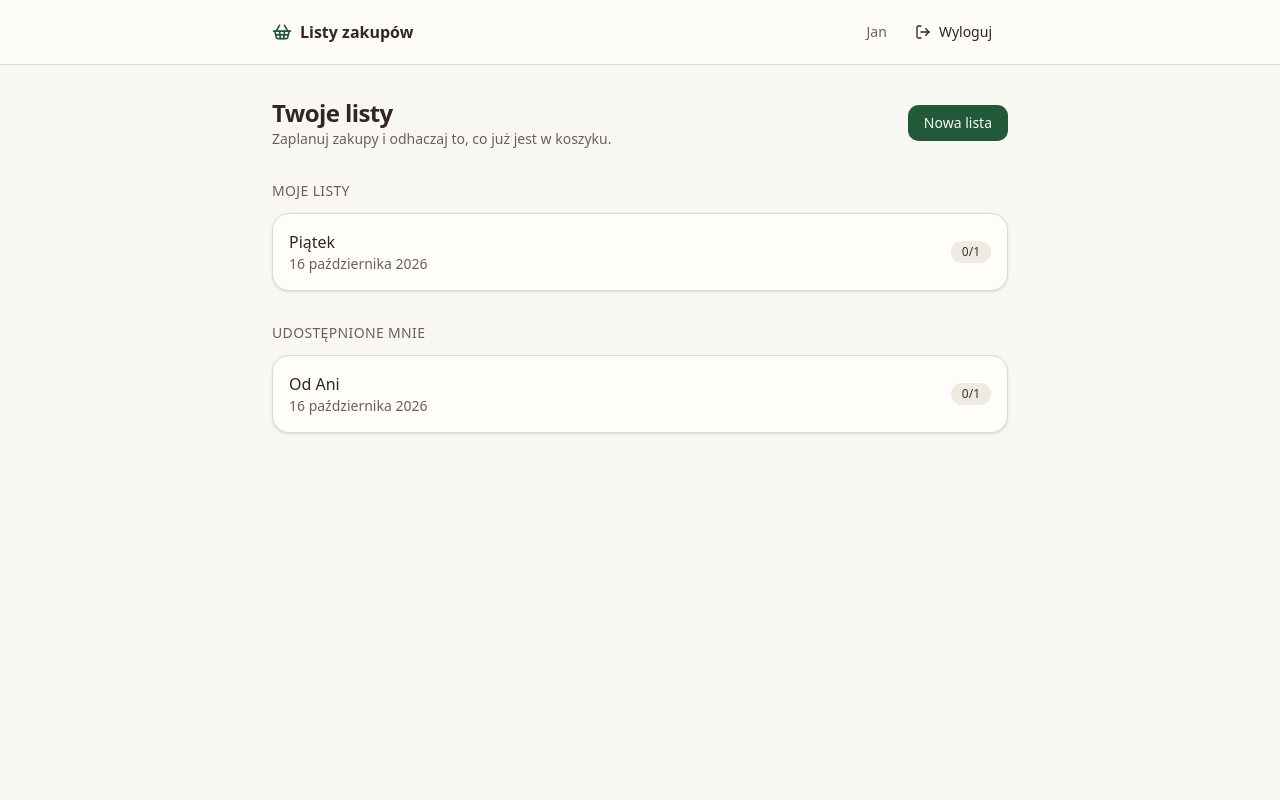
Scenario: listy › pokazuje własne i udostępnione listy oraz tworzy nową
The width and height of the screenshot is (1280, 800).
Expected: the text "Piątek" is shown, [289,231,335,253]
Expected: the text "Od Ani" is shown, [289,373,340,395]
Click the button with test id "new-list-button": (958, 123) [908,105,1008,141]
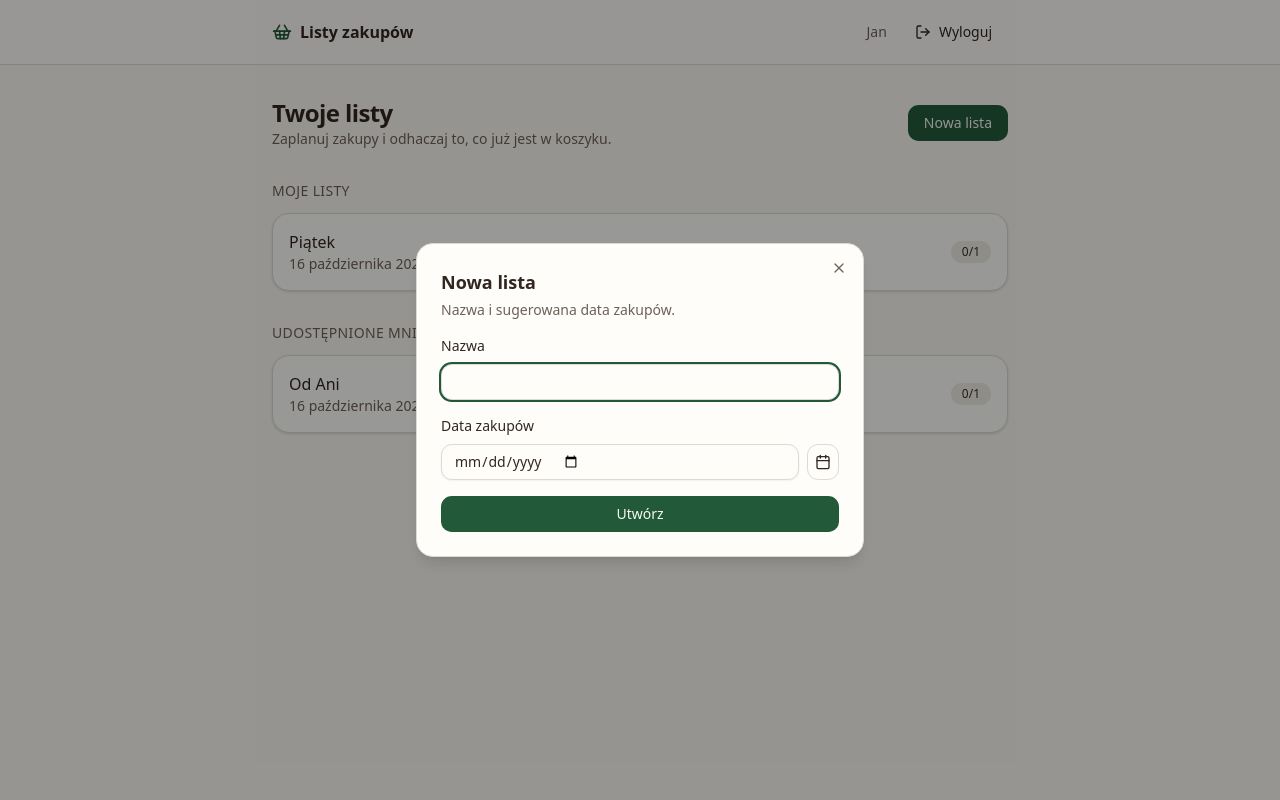
In the field with test id "list-name-input": (640, 382) [441,364,839,400], type "Sobota"
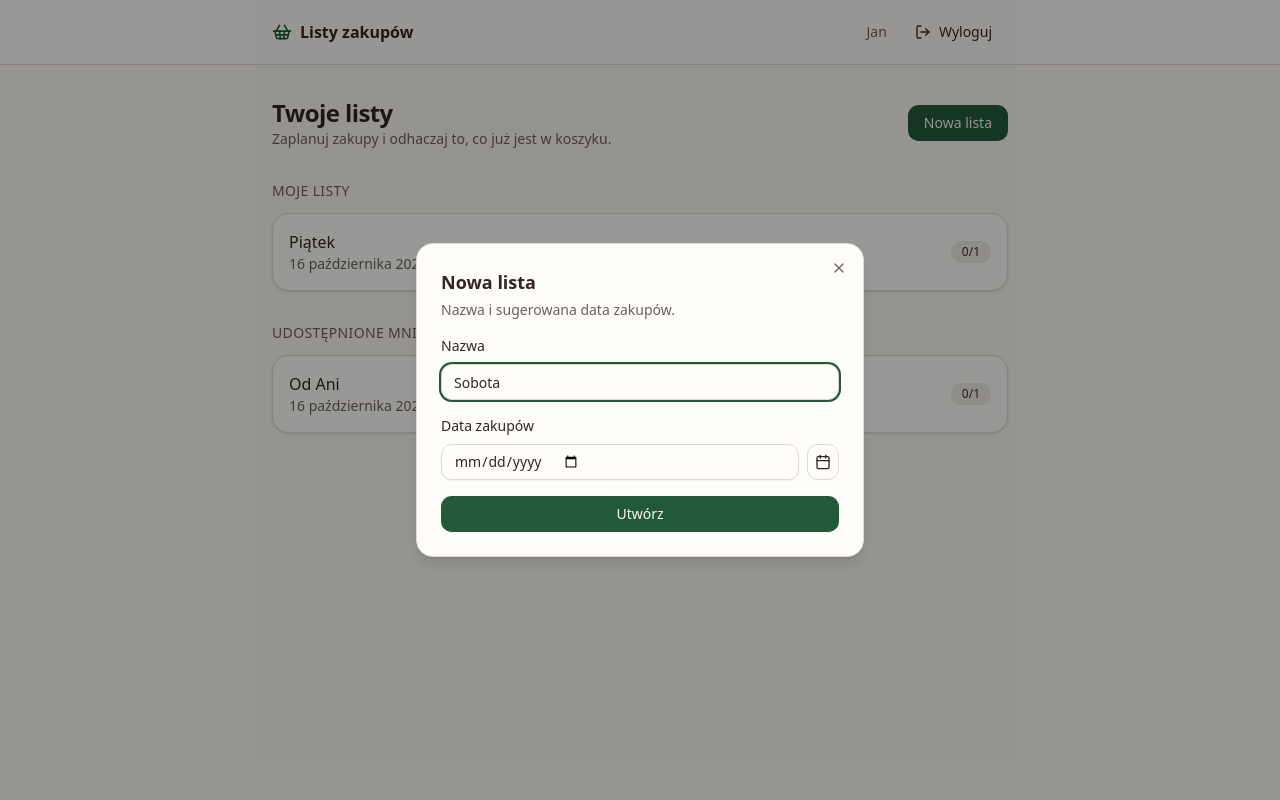
Click the button with test id "create-list-submit": (640, 514) [441,496,839,532]
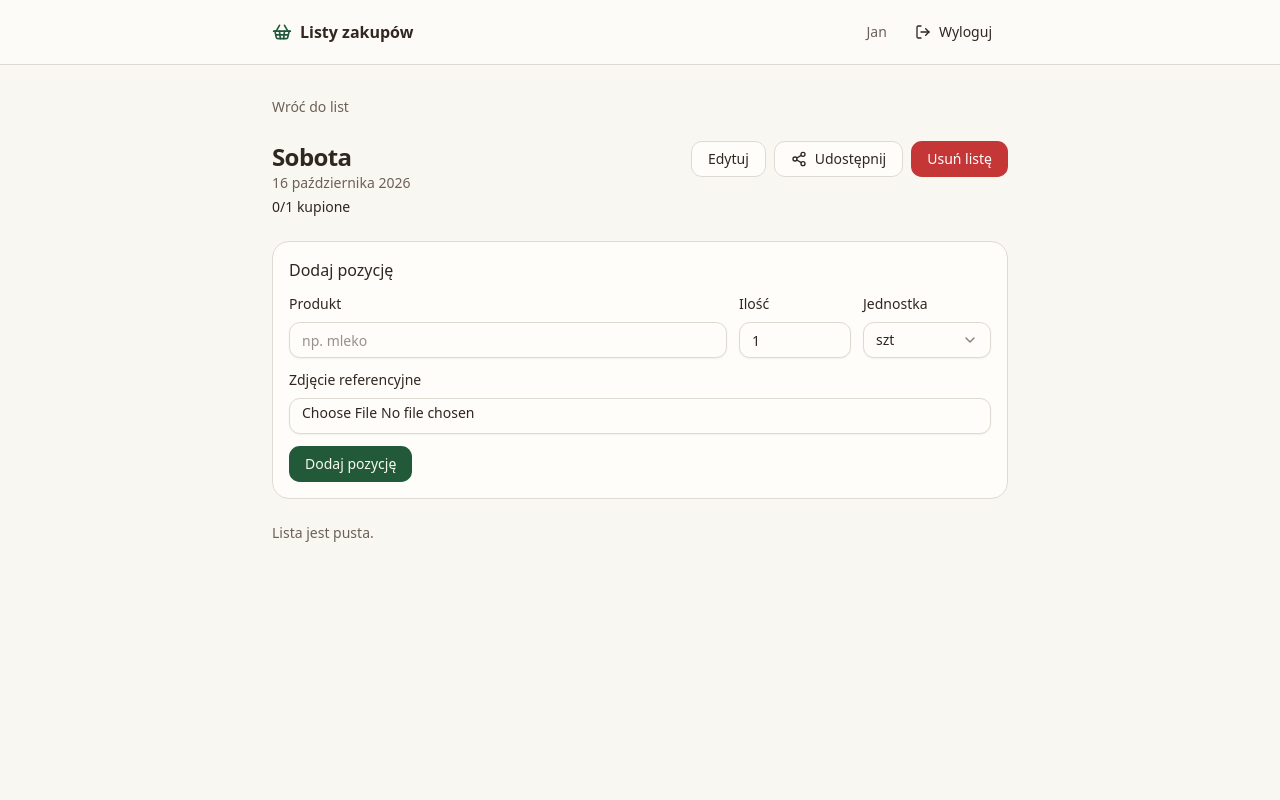
Now the heading with test id "list-title" reads "Sobota", box [272,140,352,173]
Now the text "Lista jest pusta." is shown, box [272,523,374,542]
